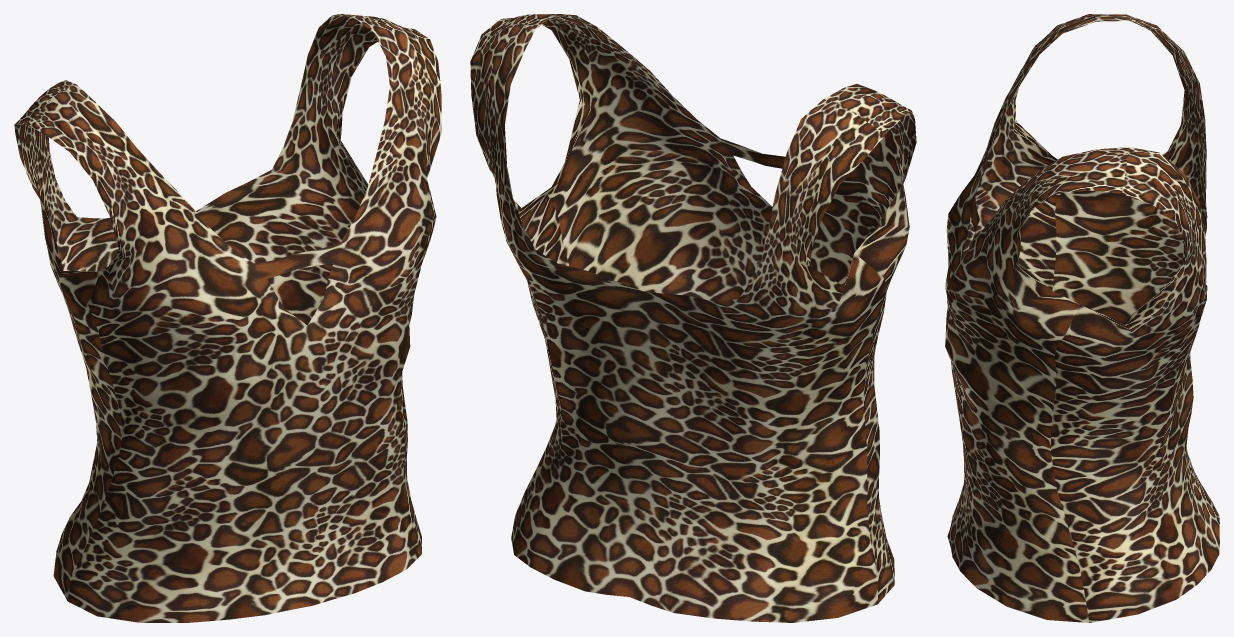
The model's file is top_tank.gltf.
3 views of the same model, side by side, from view 1: azimuth 30°, elevation 25°; view 2: azimuth 150°, elevation 25°; view 3: azimuth 270°, elevation 25° (orthographic). The views are drawn at different scales.
Parts seen in each view (by area): view 1: top_tank; view 2: top_tank; view 3: top_tank.
Part boxes in pixels (<box>): top_tank: <box>14,14,441,622</box>; top_tank: <box>470,14,916,622</box>; top_tank: <box>945,14,1219,622</box>.
Bounding box in the file's own units: 0.3955 × 0.4786 × 0.2582.
Materials: 1 (1 with a texture image).
